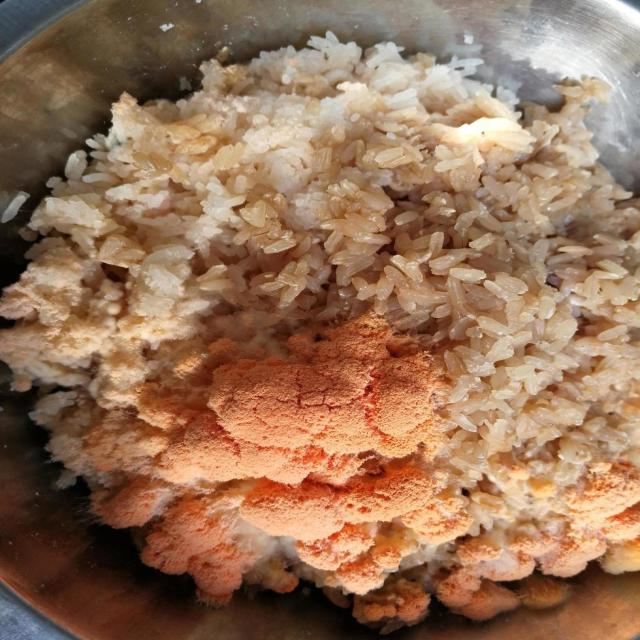organik: (30, 41, 628, 596)
